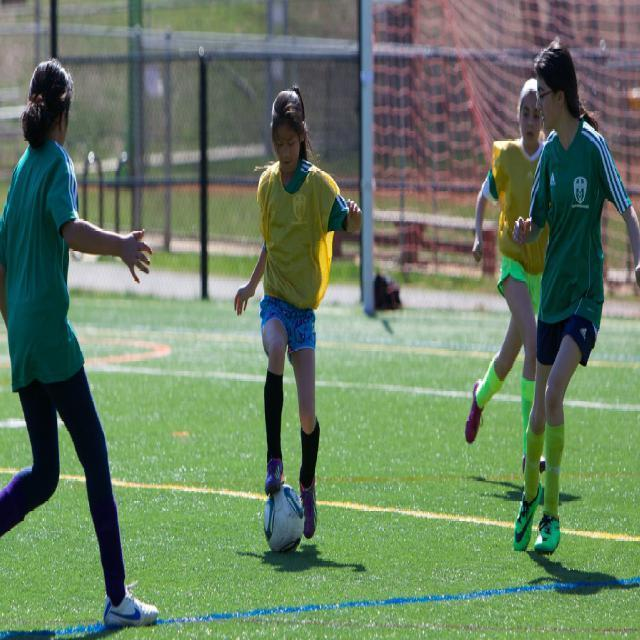Football: (264, 486, 304, 554)
